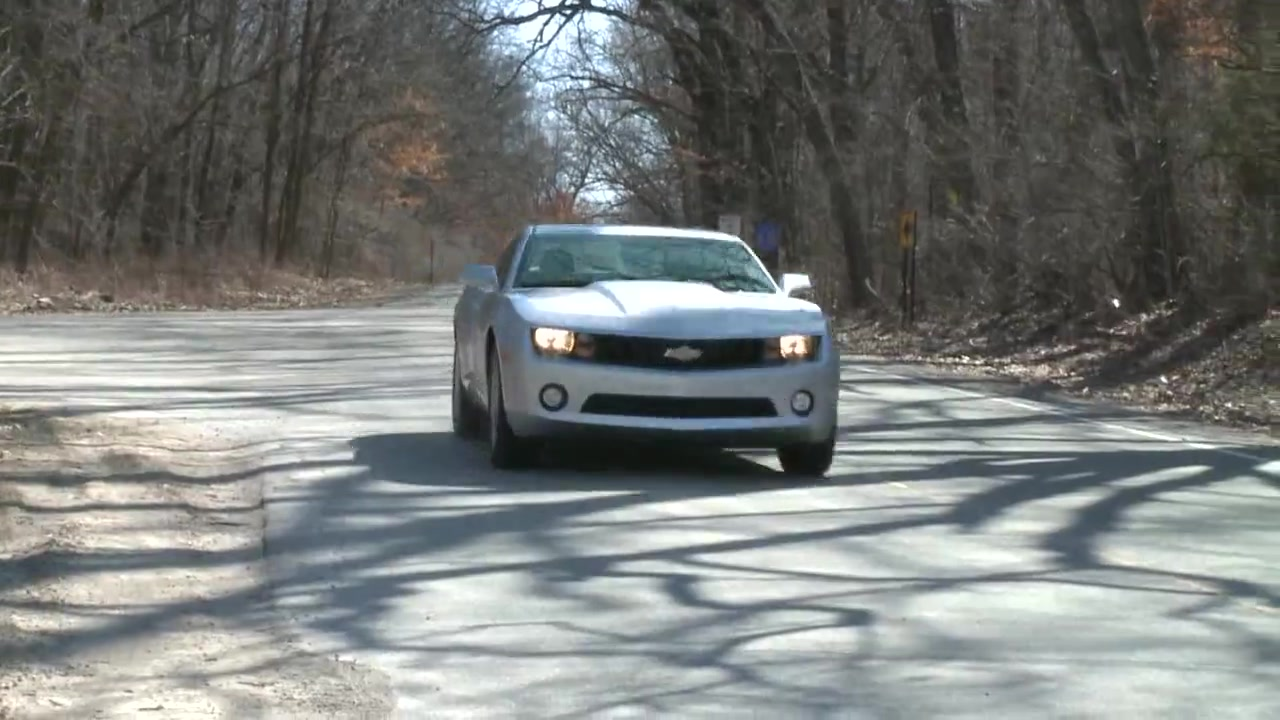car: (445, 223, 847, 487)
